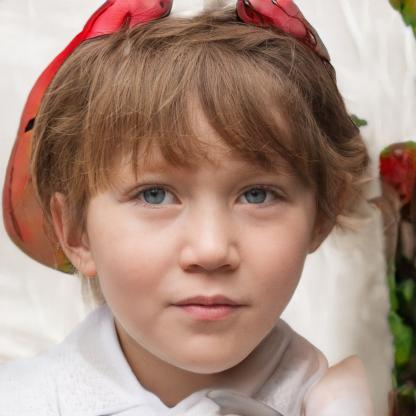eyeee: (113, 179, 190, 211), (229, 181, 299, 213)
mouthhz: (164, 292, 255, 324)
nosebb: (178, 202, 242, 273)
